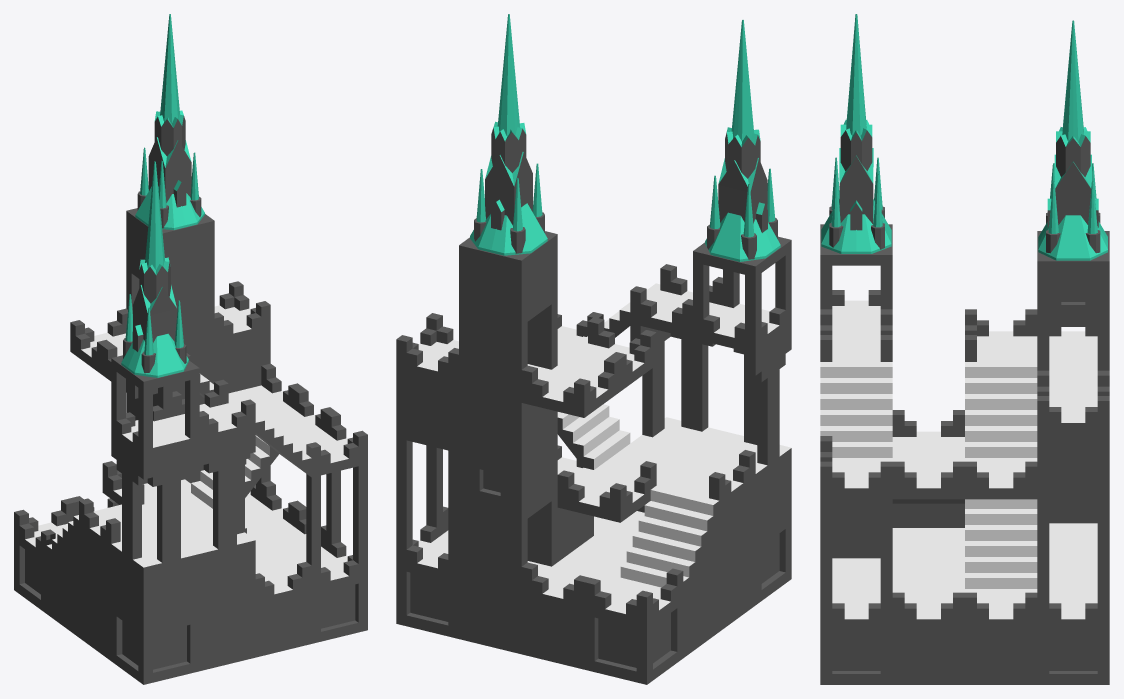
The model's file is tower-middle.glb.
3 renders of one model, left to right at view 1: azimuth 30°, elevation 25°; view 2: azimuth 150°, elevation 25°; view 3: azimuth 270°, elevation 25°, orthographic. The views are drawn at different scales.
Visible parts, largest first — view 1: level; view 2: level; view 3: level.
Part boxes in pixels (bbox=[...]): level: bbox=[14, 14, 367, 684]; level: bbox=[396, 14, 791, 684]; level: bbox=[820, 14, 1109, 684].
Size of what is drawn, in the model's own units: 4 by 9.44 by 4.
